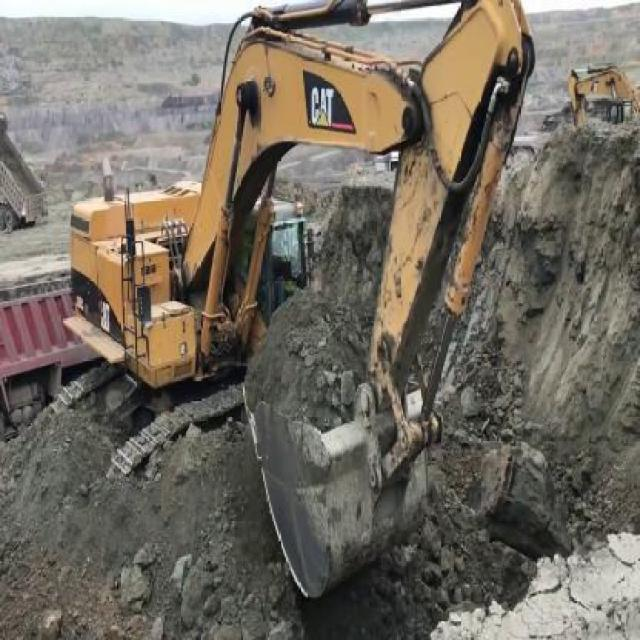dump_truck: (2, 121, 46, 225)
excavator: (68, 0, 537, 606), (567, 65, 640, 123)
